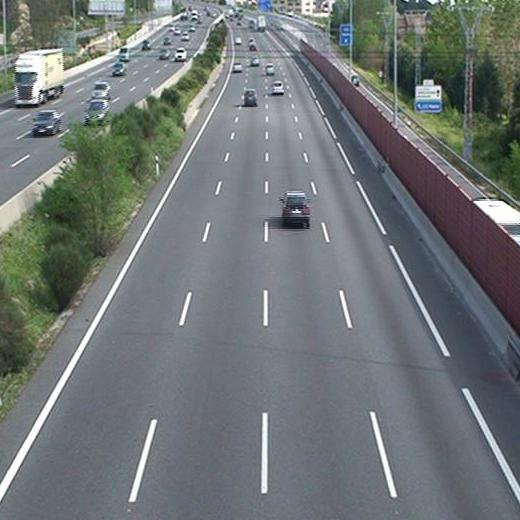car: (279, 192, 311, 224), (244, 89, 259, 107), (271, 81, 285, 96), (249, 55, 261, 68), (264, 62, 276, 75), (232, 61, 245, 71)
